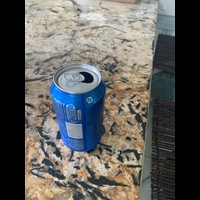tonica: (49, 64, 106, 151)
